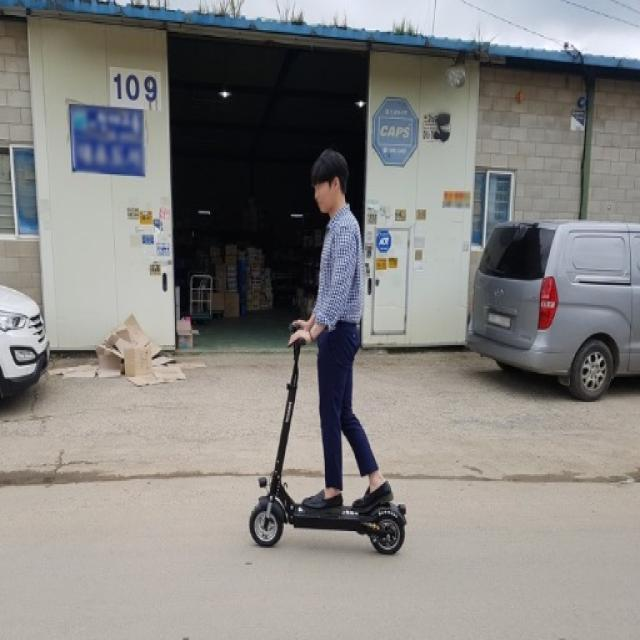non-helmet: (231, 109, 427, 578)
